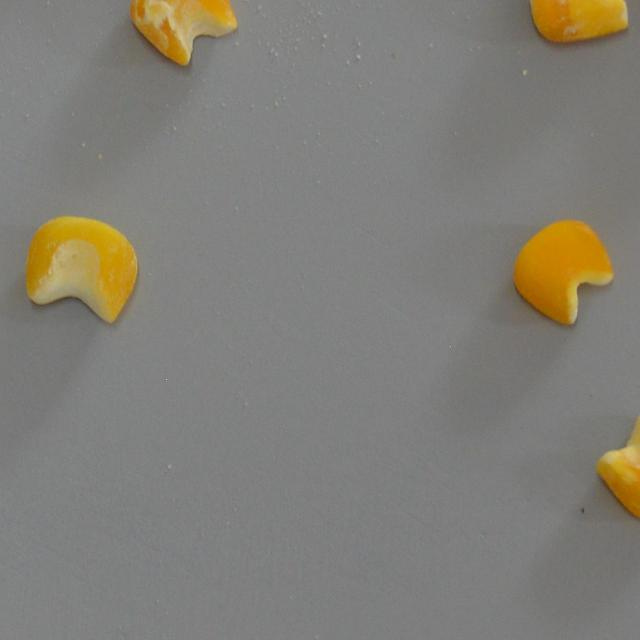no_canjicado: (508, 216, 618, 330)
pelicula: (128, 0, 242, 74), (592, 409, 640, 523), (524, 0, 631, 46)
punto_negro: (22, 212, 143, 328)
